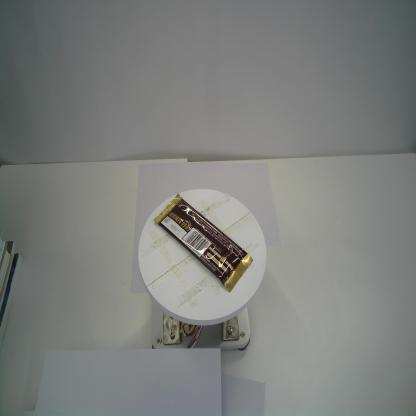Chocolate: (153, 192, 254, 294)
